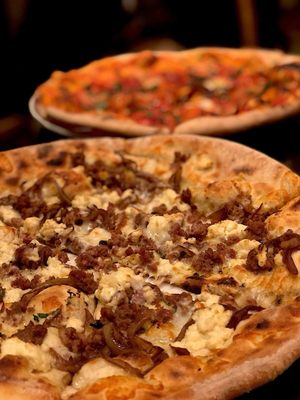sandwich: (0, 133, 300, 399), (33, 48, 299, 135)
